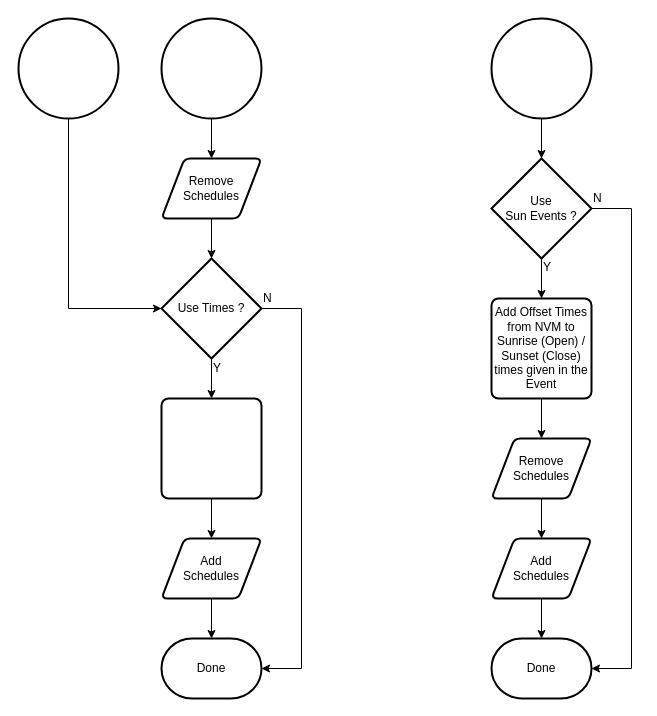
Some shapes in this 657 by 716 pixel diagram are drawn without their labels. Here are the shapes that lost their labels. From the top down, the box of each, then its label:
(17, 17, 119, 119): Date Changed
(160, 17, 262, 119): NVM Settings Changed
(490, 17, 592, 119): Sun Events Changed
(160, 397, 262, 499): Open / Close times are loaded from NVM
